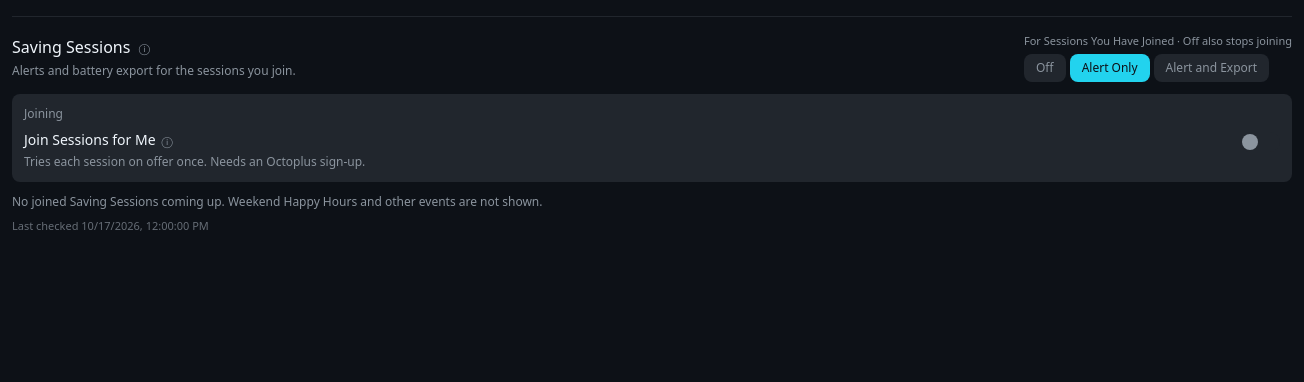
Test: SavingSessionsPanel › keeps the joining explanation behind an ⓘ, with a one-line hint (issue #423)
The image size is (1304, 382).
Expected: the text "Tries each session on offer once. Needs an Octoplus sign-up." is shown, [24,154,365,170]
Click the button named "More about Join Sessions for Me" at (167, 141), box [159,133,175,149]
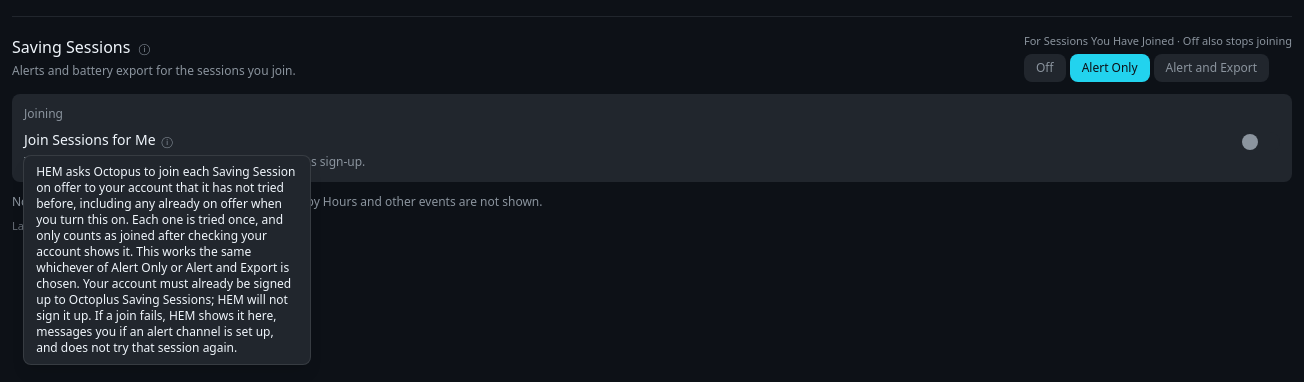
Result: the tooltip shows "only counts as joined after checking your account" at [36,163,296,356]
